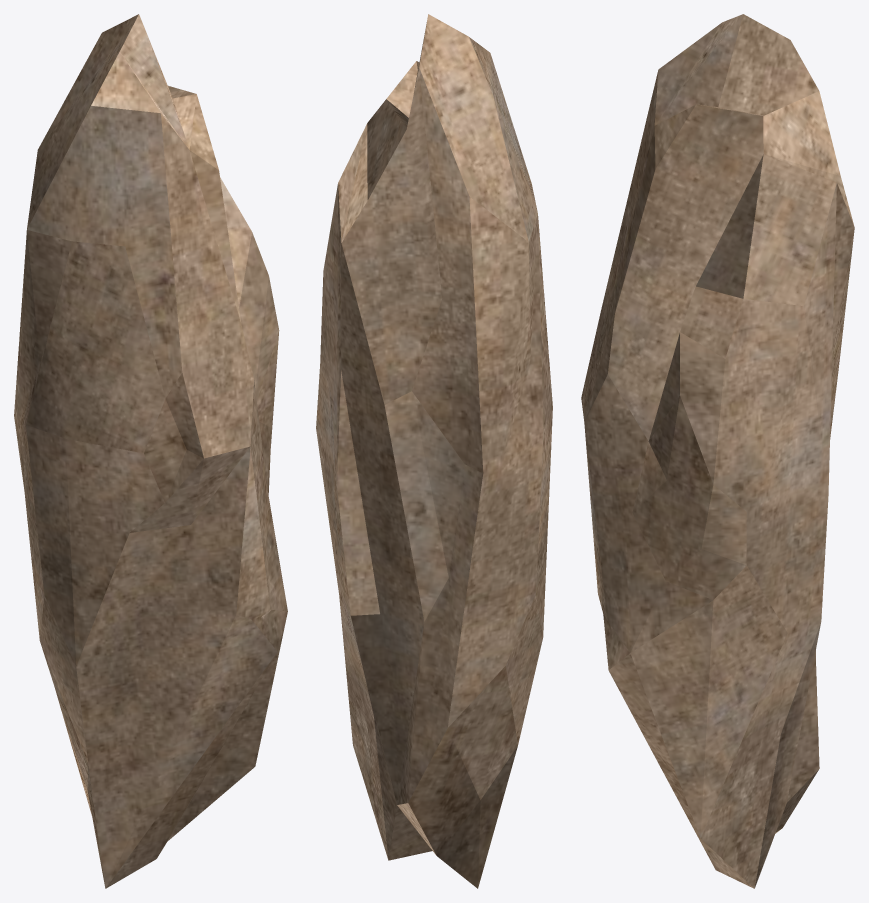
Rendered from boulder-tall-1.glb.
3 views of the same model, side by side, from view 1: azimuth 30°, elevation 25°; view 2: azimuth 150°, elevation 25°; view 3: azimuth 270°, elevation 25° (orthographic). The views are drawn at different scales.
Visible parts, largest first — view 1: Dodecahedron_n3d; view 2: Dodecahedron_n3d; view 3: Dodecahedron_n3d.
Part boxes in pixels (bbox=[...]): Dodecahedron_n3d: bbox=[14, 14, 287, 888]; Dodecahedron_n3d: bbox=[316, 14, 552, 888]; Dodecahedron_n3d: bbox=[581, 14, 854, 888].
Bounding box in the file's own units: 1.65 × 5.83 × 1.65.
Materials: 1 (1 with a texture image).
